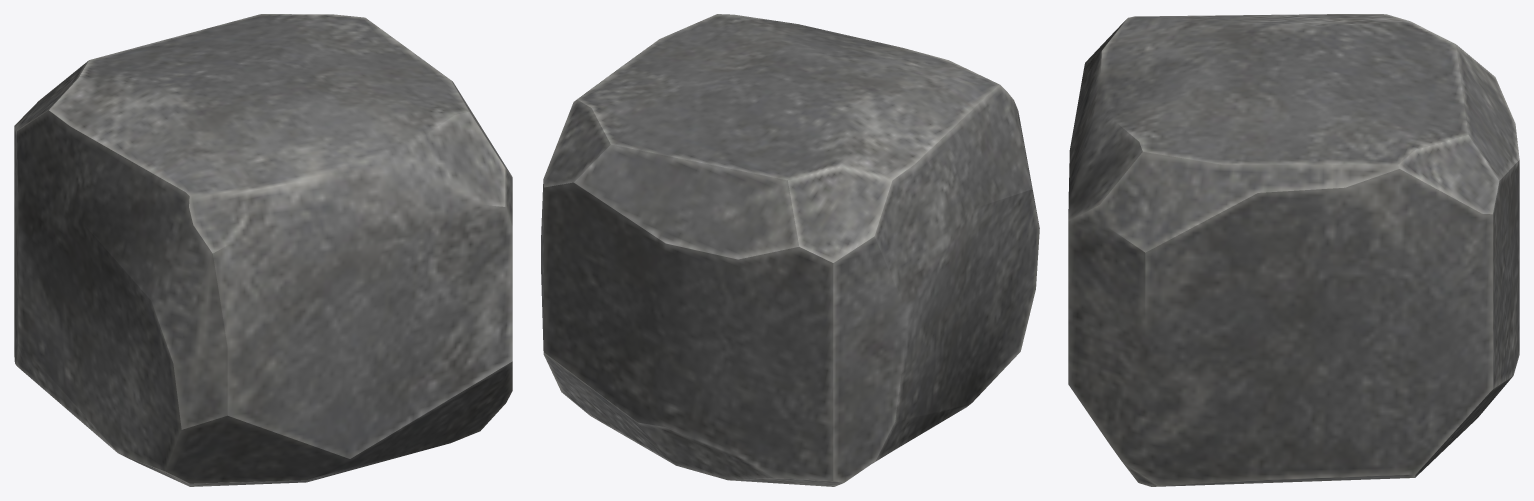
Rendered from Rock09_Dream.glb.
3 views of the same model, side by side, from view 1: azimuth 30°, elevation 25°; view 2: azimuth 150°, elevation 25°; view 3: azimuth 270°, elevation 25° (orthographic). The views are drawn at different scales.
Visible parts, largest first — view 1: rock09_dream; view 2: rock09_dream; view 3: rock09_dream.
Part boxes in pixels (x1,y1,x2,y2): rock09_dream: [14, 14, 512, 486]; rock09_dream: [541, 14, 1039, 486]; rock09_dream: [1068, 14, 1519, 486].
Bounding box in the file's own units: 0.5413 × 0.4694 × 0.5632.
1 material, 1 textured.
